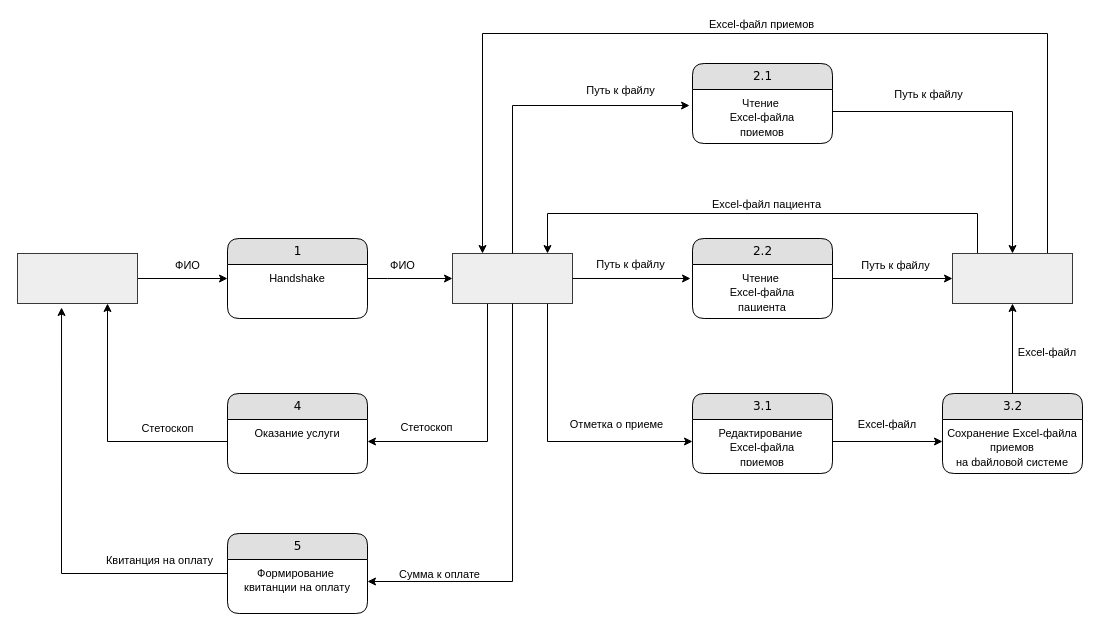
This 1100x631 diagram has some shape labels left out. The shapes that lost their labels are listed below. From the top down, each one's centre as x and y in pixels, then its label:
the point at 77,278: Пациент
the point at 512,278: Доктор
the point at 1012,278: Файловая система
